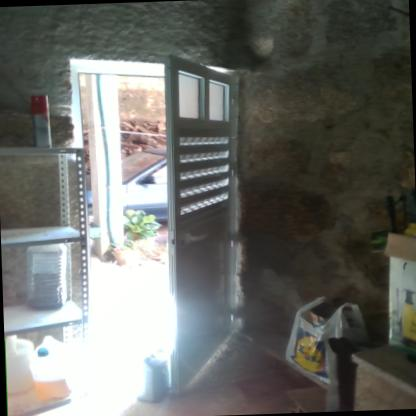semi: (55, 38, 278, 416)
